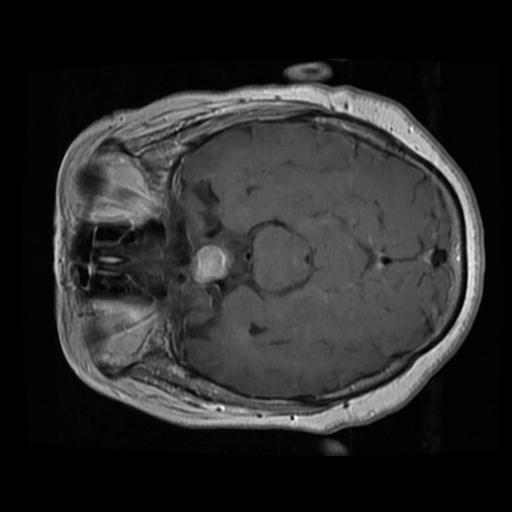pituitary tumour: (192, 245, 227, 281)
